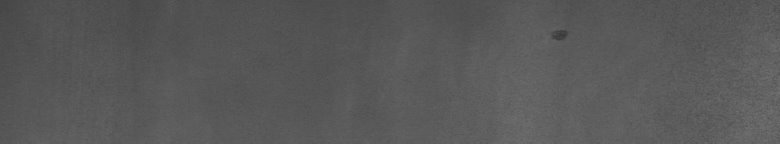fi: (548, 24, 568, 44)
